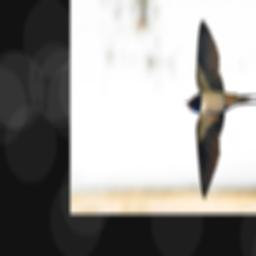Swallow: (184, 15, 256, 201)
